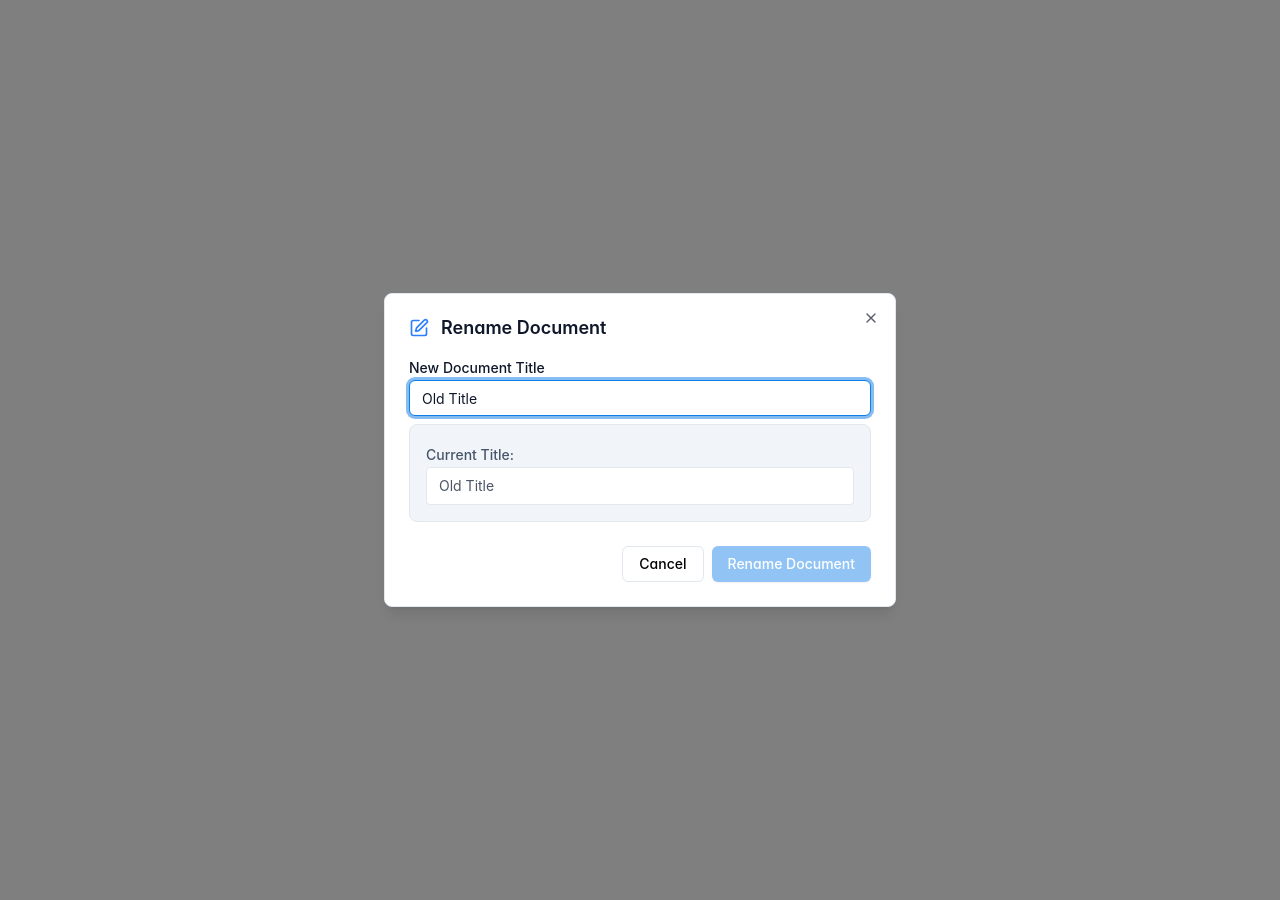
Test case: RenameDocumentModal › shows the error when the update fails
The width and height of the screenshot is (1280, 900).
Replace the text in the field with test id "document-name" with "Another". click: (640, 398)
box: [409,380,871,416]
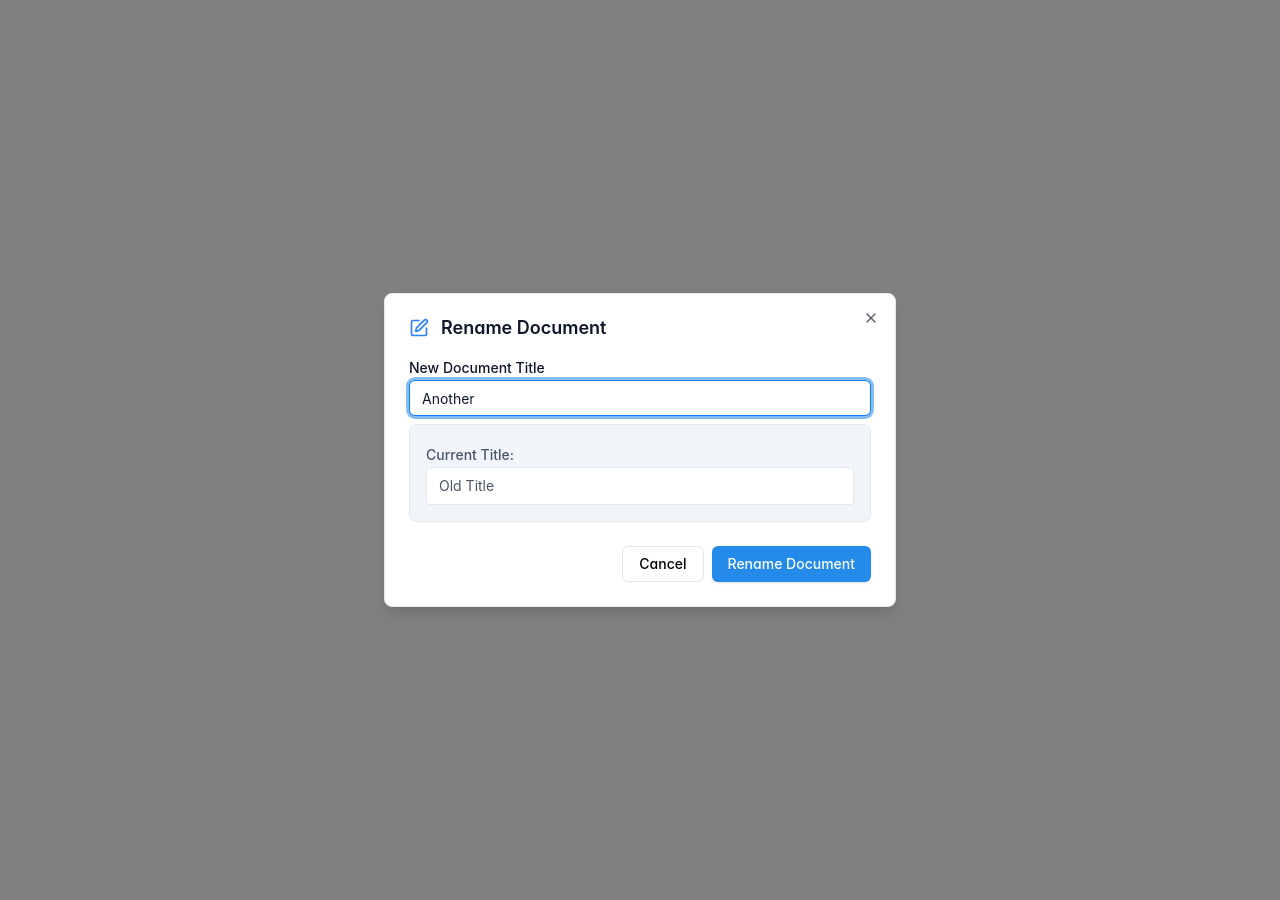
Click the button with test id "rename-document-btn". click: (791, 564)
box: [712,546,871,582]
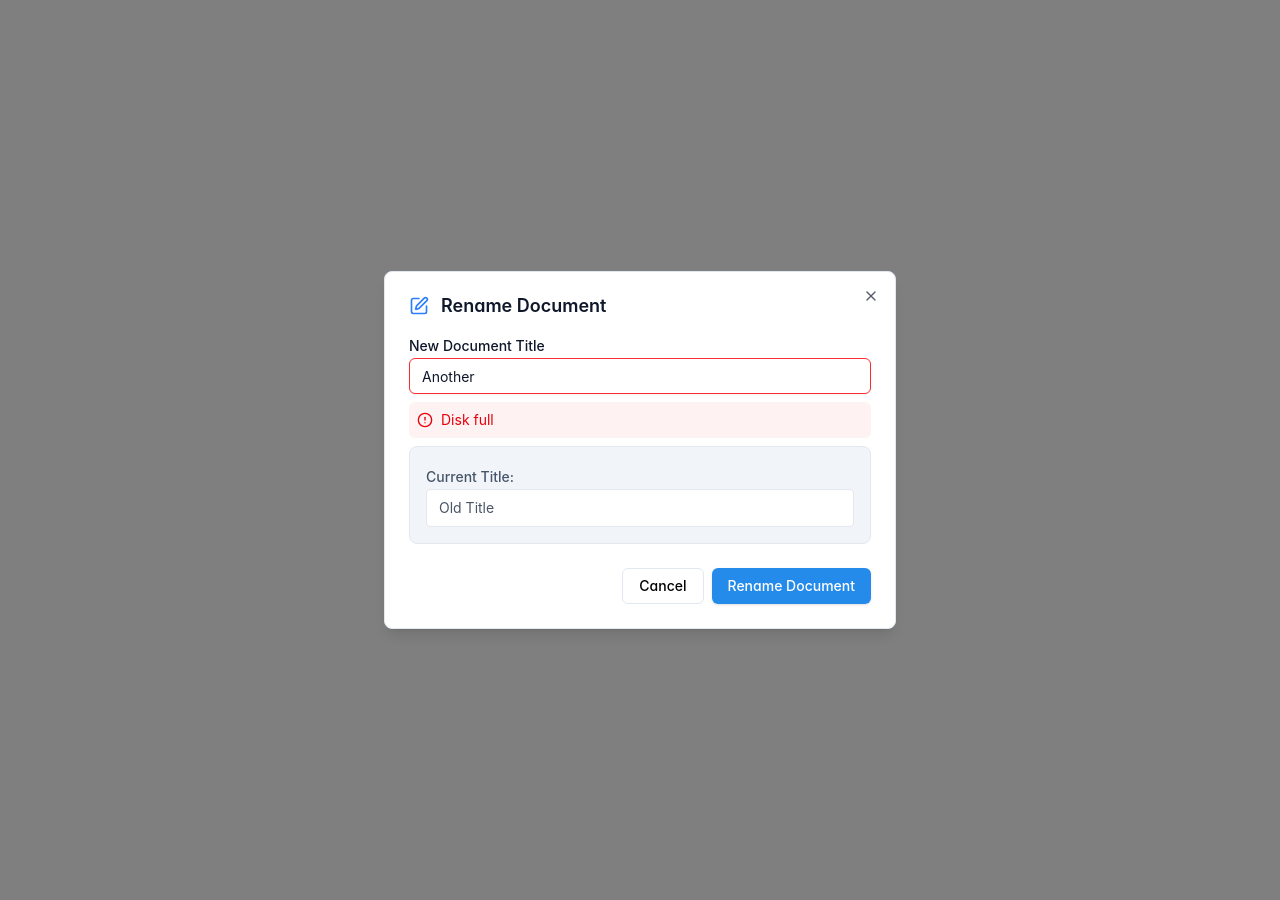
Now the text "Disk full" is shown, box [409,402,871,438]
